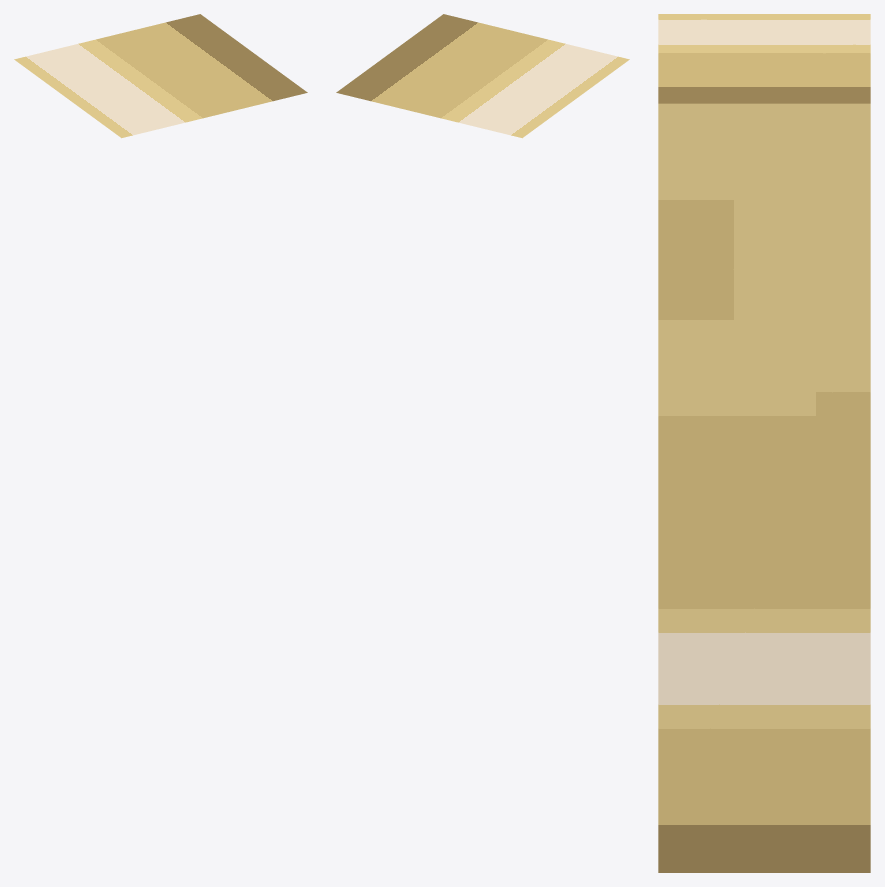
The picture shows the model from 3 angles, left to right: view 1: azimuth 30°, elevation 25°; view 2: azimuth 150°, elevation 25°; view 3: azimuth 270°, elevation 25°; orthographic projection.
Bounding box in the file's own units: 1 × 4 × 1.
Materials: 1 (1 with a texture image).
